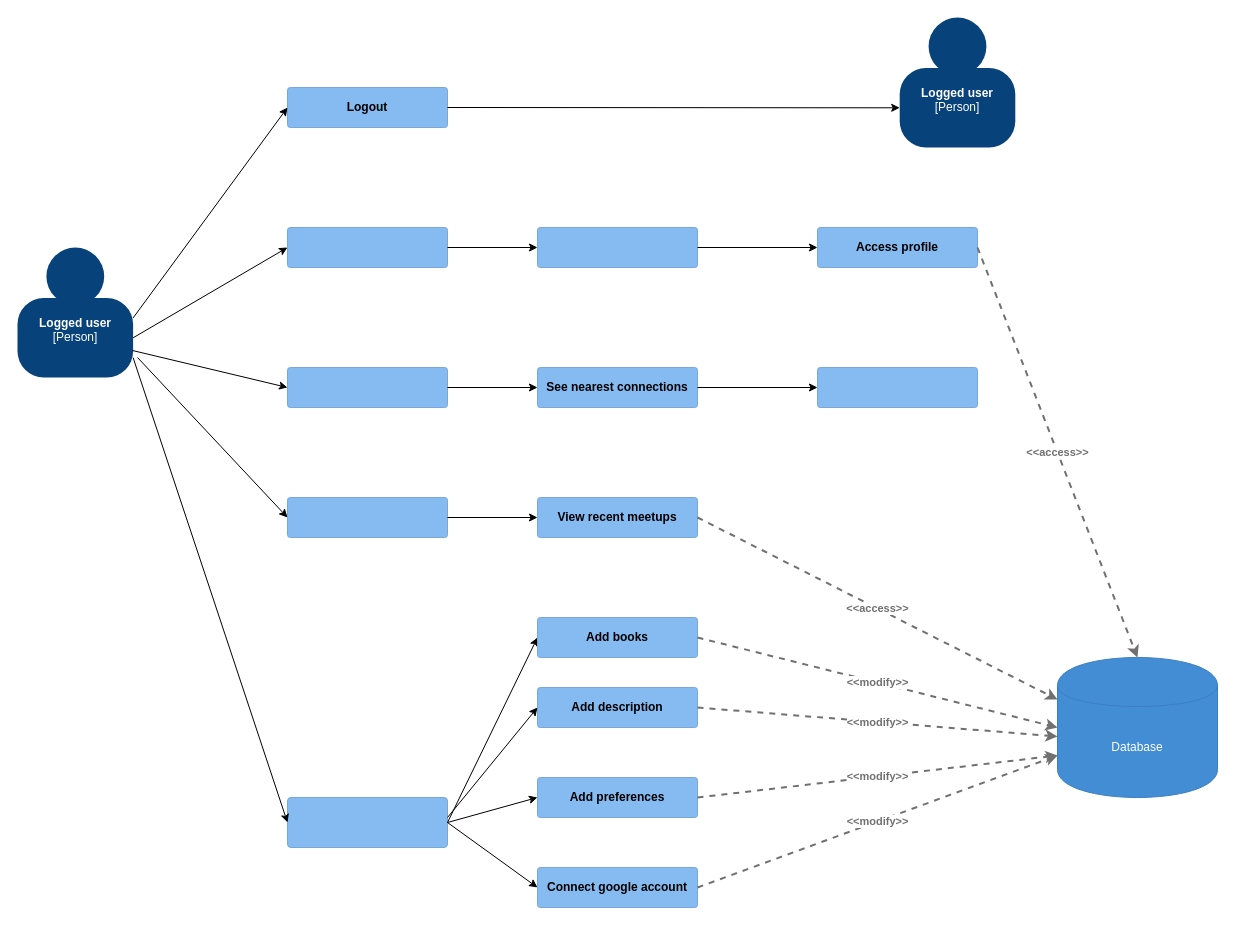
Some shapes in this 1235 by 925 pixel diagram are drawn without their labels. The shapes that lost their labels are listed below. From the top down, each one's centre as x and y in pixels, then its label:
[367,247]: Homepage
[617,247]: View profiles
[367,387]: Map page
[897,387]: Send meetup request
[367,517]: Notifications
[367,822]: Account settings page
